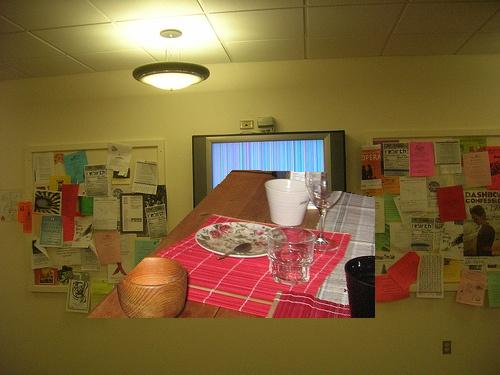tampered: (85, 171, 375, 318)
